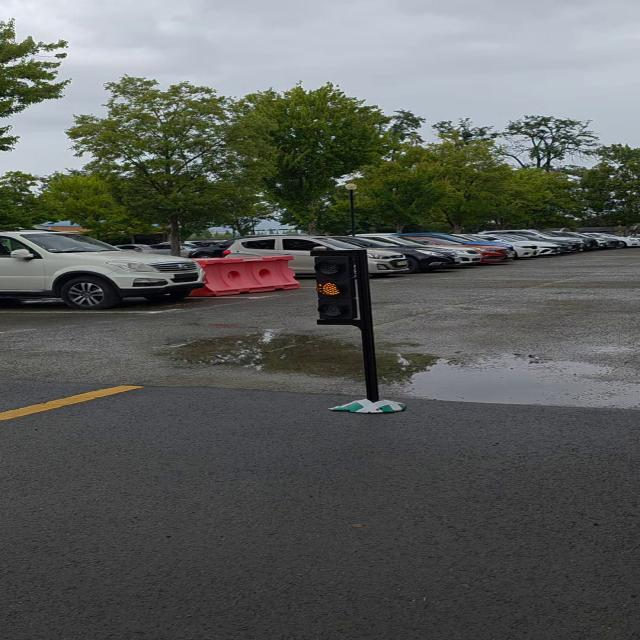yellow: (314, 252, 360, 332)
